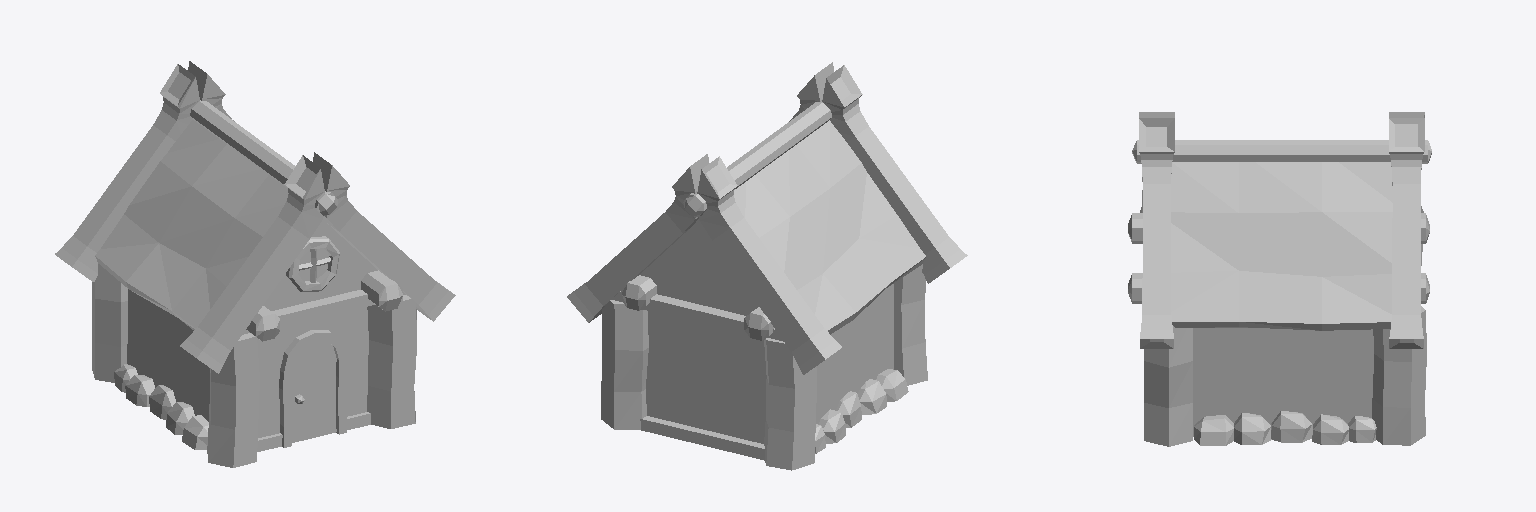
File: smol_house.obj
3 renders of one model, left to right at view 1: azimuth 30°, elevation 25°; view 2: azimuth 150°, elevation 25°; view 3: azimuth 270°, elevation 25°, orthographic.
Parts seen in each view (by area): view 1: UV_v2; view 2: UV_v2; view 3: UV_v2.
Part boxes in pixels (x1,y1,x2,y2): UV_v2: (55,61,455,467); UV_v2: (567,62,967,470); UV_v2: (1128,112,1431,446).
Bounding box in the file's own units: 9.77 × 10.16 × 9.95.